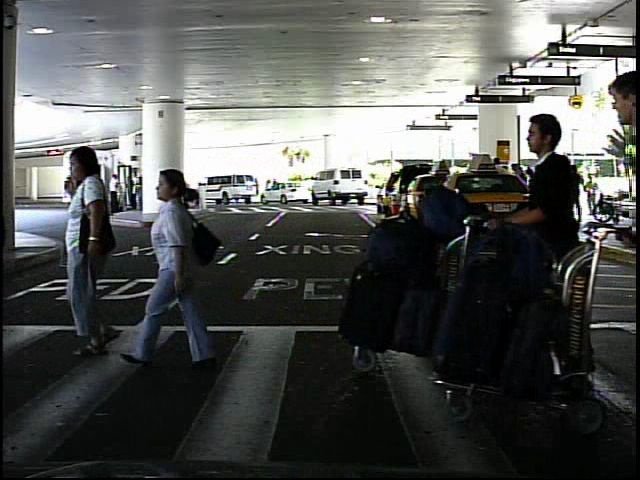person: (488, 100, 589, 394), (65, 137, 143, 358), (134, 158, 208, 382), (104, 172, 122, 222), (584, 171, 603, 217), (262, 178, 273, 204)
